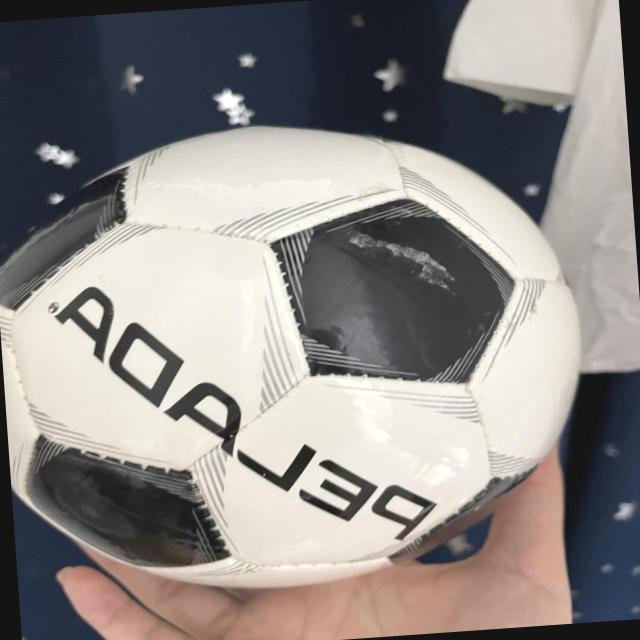Soccer Ball: (0, 101, 598, 606)
